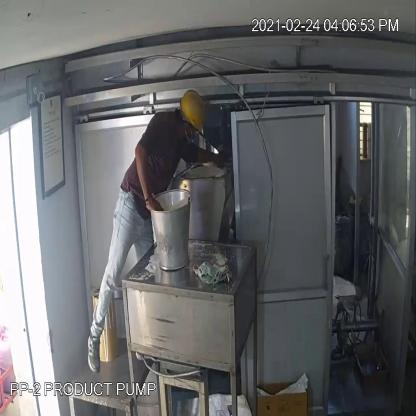helmet: (175, 84, 211, 141)
